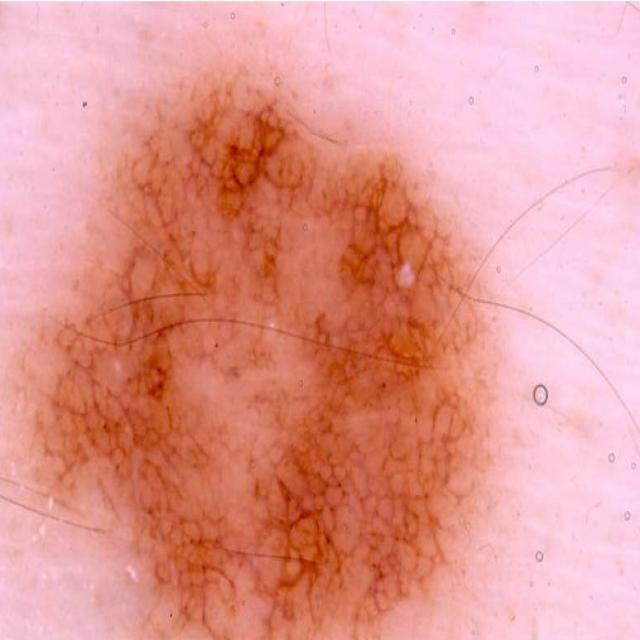Melanoma: (53, 64, 501, 640)
